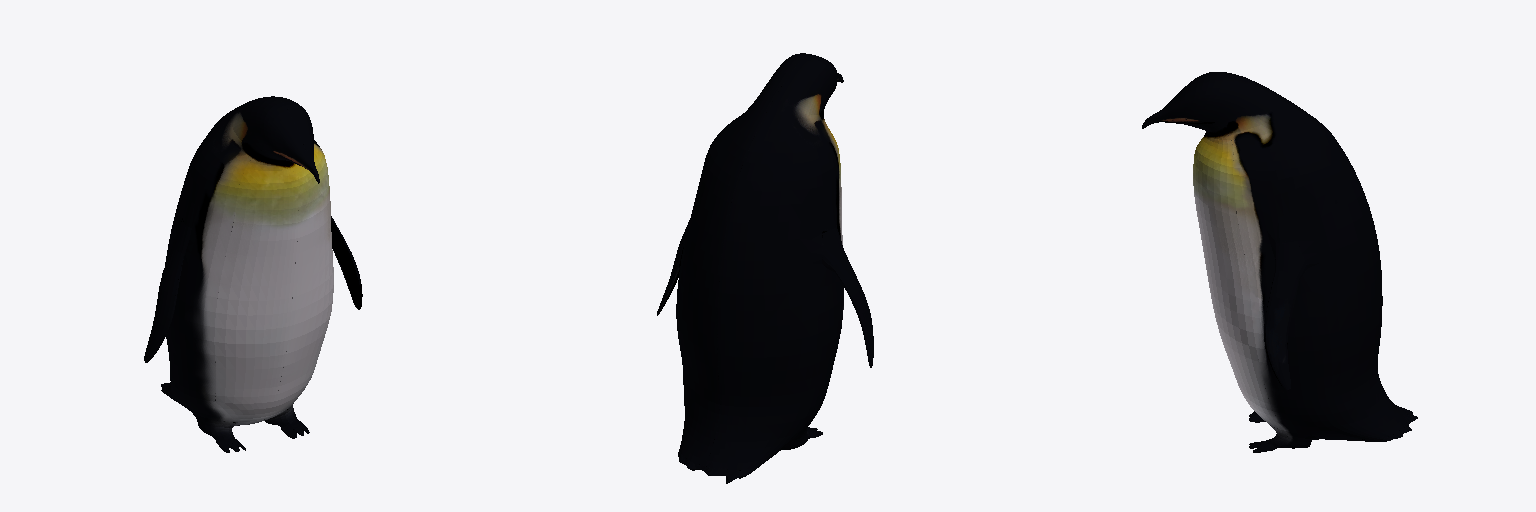
3 views of the same model, side by side, from view 1: azimuth 30°, elevation 25°; view 2: azimuth 150°, elevation 25°; view 3: azimuth 270°, elevation 25° (orthographic).
Visible parts, largest first — view 1: Penguin_Cylinder.001; view 2: Penguin_Cylinder.001; view 3: Penguin_Cylinder.001.
Boxes of the visible parts, box(x1,y1,x2,y2) form: Penguin_Cylinder.001: box(144, 96, 362, 452); Penguin_Cylinder.001: box(657, 53, 873, 483); Penguin_Cylinder.001: box(1142, 72, 1417, 452).
Bounding box in the file's own units: 0.7502 × 1.19 × 0.8357.
1 materials, 1 textured.